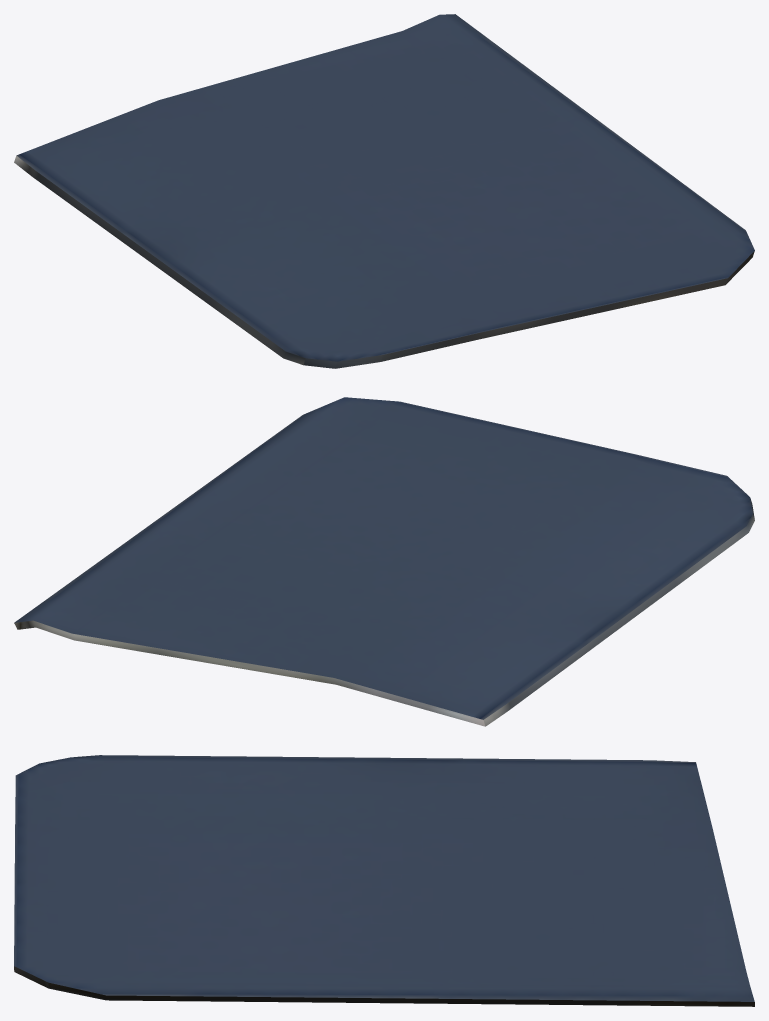
File: C70Window_WorldItem.fbx
The picture shows the model from 3 angles, top to bottom: view 1: azimuth 30°, elevation 25°; view 2: azimuth 150°, elevation 25°; view 3: azimuth 270°, elevation 25°; orthographic projection. The views are drawn at different scales.
Visible parts, largest first — view 1: FrontRightWindow_obj; view 2: FrontRightWindow_obj; view 3: FrontRightWindow_obj.
Boxes of the visible parts, x1,y1,x2,y2 form: FrontRightWindow_obj: (14,14,754,368); FrontRightWindow_obj: (14,397,754,726); FrontRightWindow_obj: (14,755,754,1006).
Bounding box in the file's own units: 0.7433 × 0.0323 × 0.9253.
